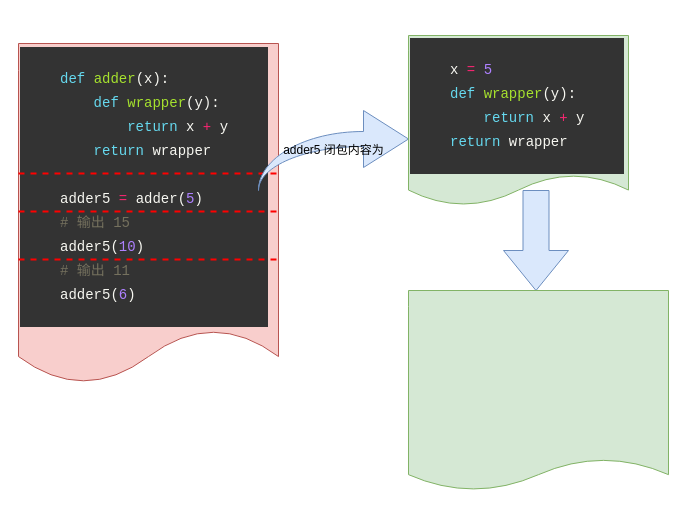
Image size: 686x508. Some labels were removed from this diagram. The shapes that lost their labels are listed below. From the top down, each one's centre as x and y in pixels, then its label:
point 535,240: adder5 闭包等价于
point 538,390: def adder ( x ): x = 5 def wrapper ( y ): return x + y return wrapper
